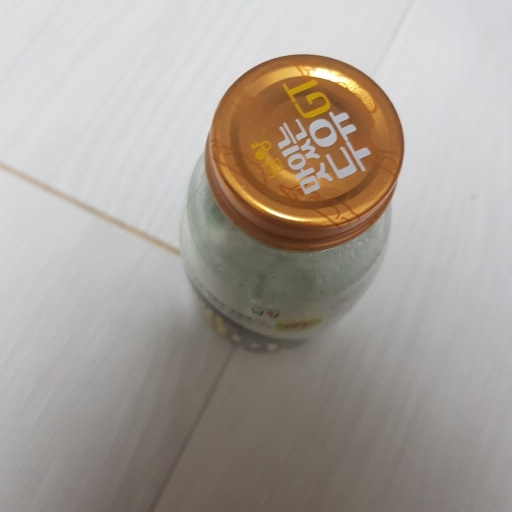Glass_4: (175, 50, 407, 357)
